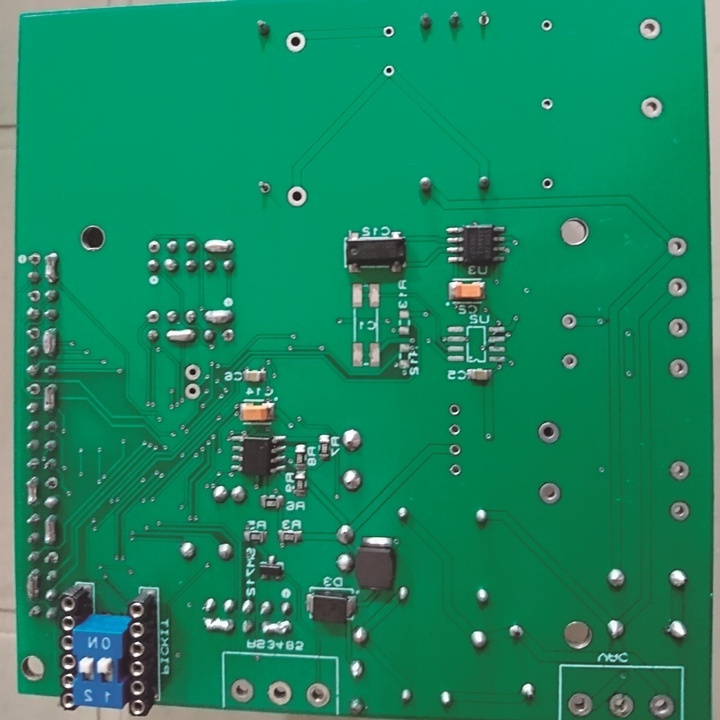F: (535, 419, 564, 447), (639, 94, 666, 124), (648, 691, 678, 718), (607, 691, 636, 718), (565, 689, 592, 718), (304, 681, 329, 710), (537, 480, 564, 506), (266, 680, 294, 705), (230, 677, 254, 706), (667, 498, 691, 523), (639, 17, 663, 41), (284, 186, 309, 209), (665, 275, 690, 298), (666, 315, 689, 340), (667, 355, 690, 380), (668, 457, 690, 482), (282, 31, 306, 53), (667, 236, 689, 258), (559, 350, 580, 372), (182, 363, 204, 383), (181, 382, 201, 400), (42, 549, 59, 567), (477, 10, 493, 29), (561, 313, 577, 332), (24, 324, 43, 340), (42, 477, 62, 492), (381, 62, 399, 78), (539, 172, 555, 190), (448, 439, 463, 458), (256, 178, 272, 195), (219, 327, 236, 343), (144, 308, 161, 324), (145, 238, 161, 254), (447, 420, 462, 437), (24, 382, 41, 397), (541, 95, 556, 110), (448, 462, 462, 478), (381, 24, 396, 38), (27, 287, 41, 302), (448, 403, 462, 417), (27, 252, 41, 266), (539, 18, 553, 30)
P: (202, 238, 236, 258), (201, 615, 235, 635), (258, 618, 293, 637), (41, 251, 61, 284), (40, 325, 60, 358), (202, 308, 236, 327), (22, 472, 40, 507), (42, 512, 59, 546), (42, 380, 57, 414), (25, 567, 39, 600), (164, 329, 197, 343)
